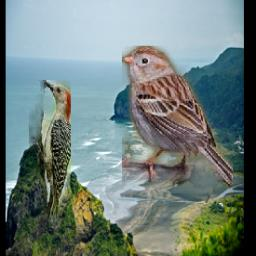Sparrow: (123, 46, 234, 187)
Woodpecker: (30, 81, 72, 232)
